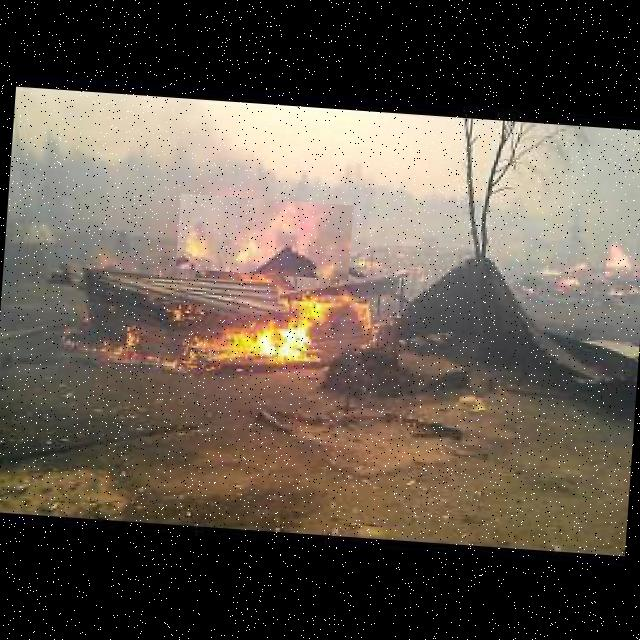fire: (200, 279, 370, 380), (175, 193, 353, 280), (604, 236, 636, 281)
